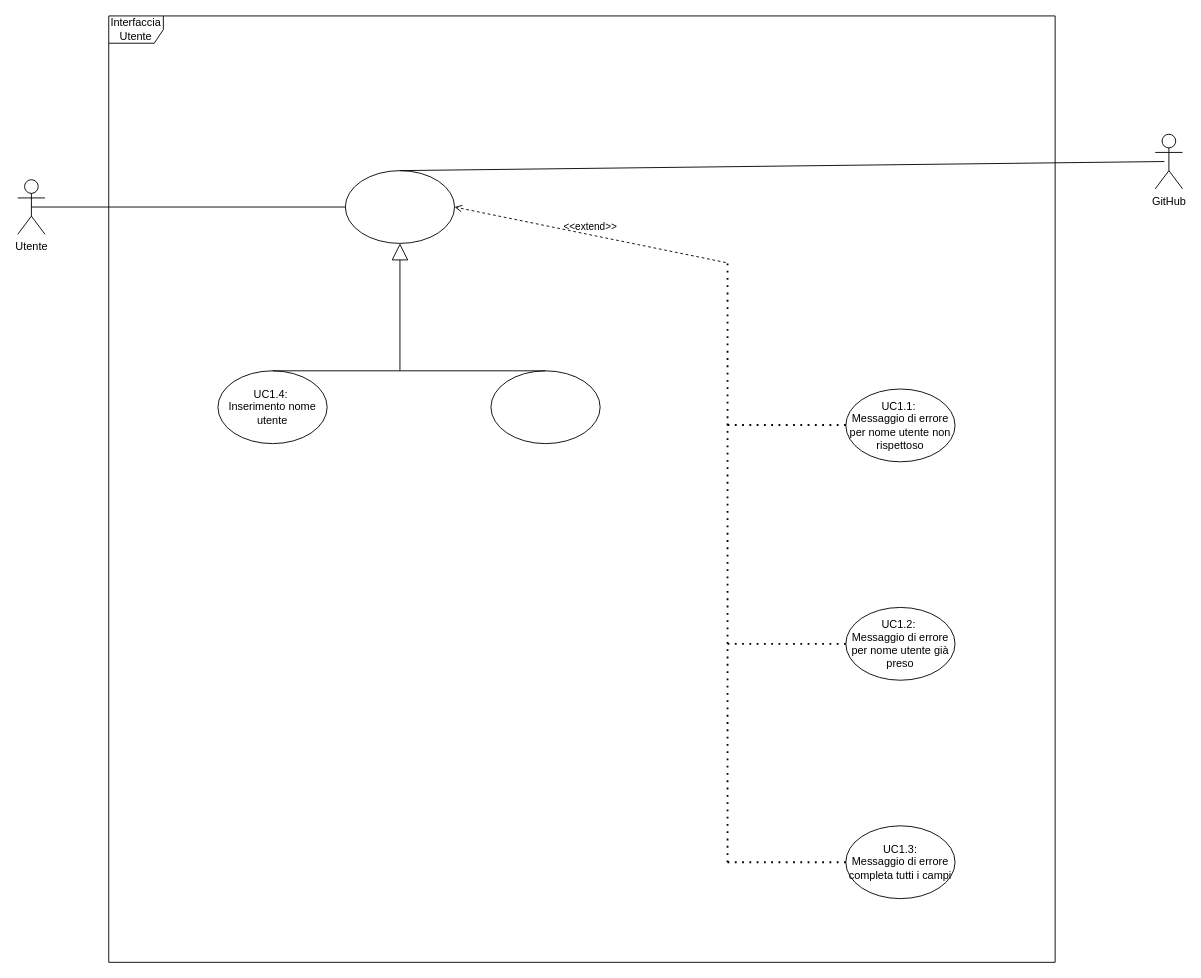
This 1201x978 diagram has some shape labels left out. Each missing label, with the centre of its shape:
"UC01: Registrazione iniziale" belongs at (x=399, y=206).
"UC1.5: Selezione scuola di provenienza" belongs at (x=545, y=407).
